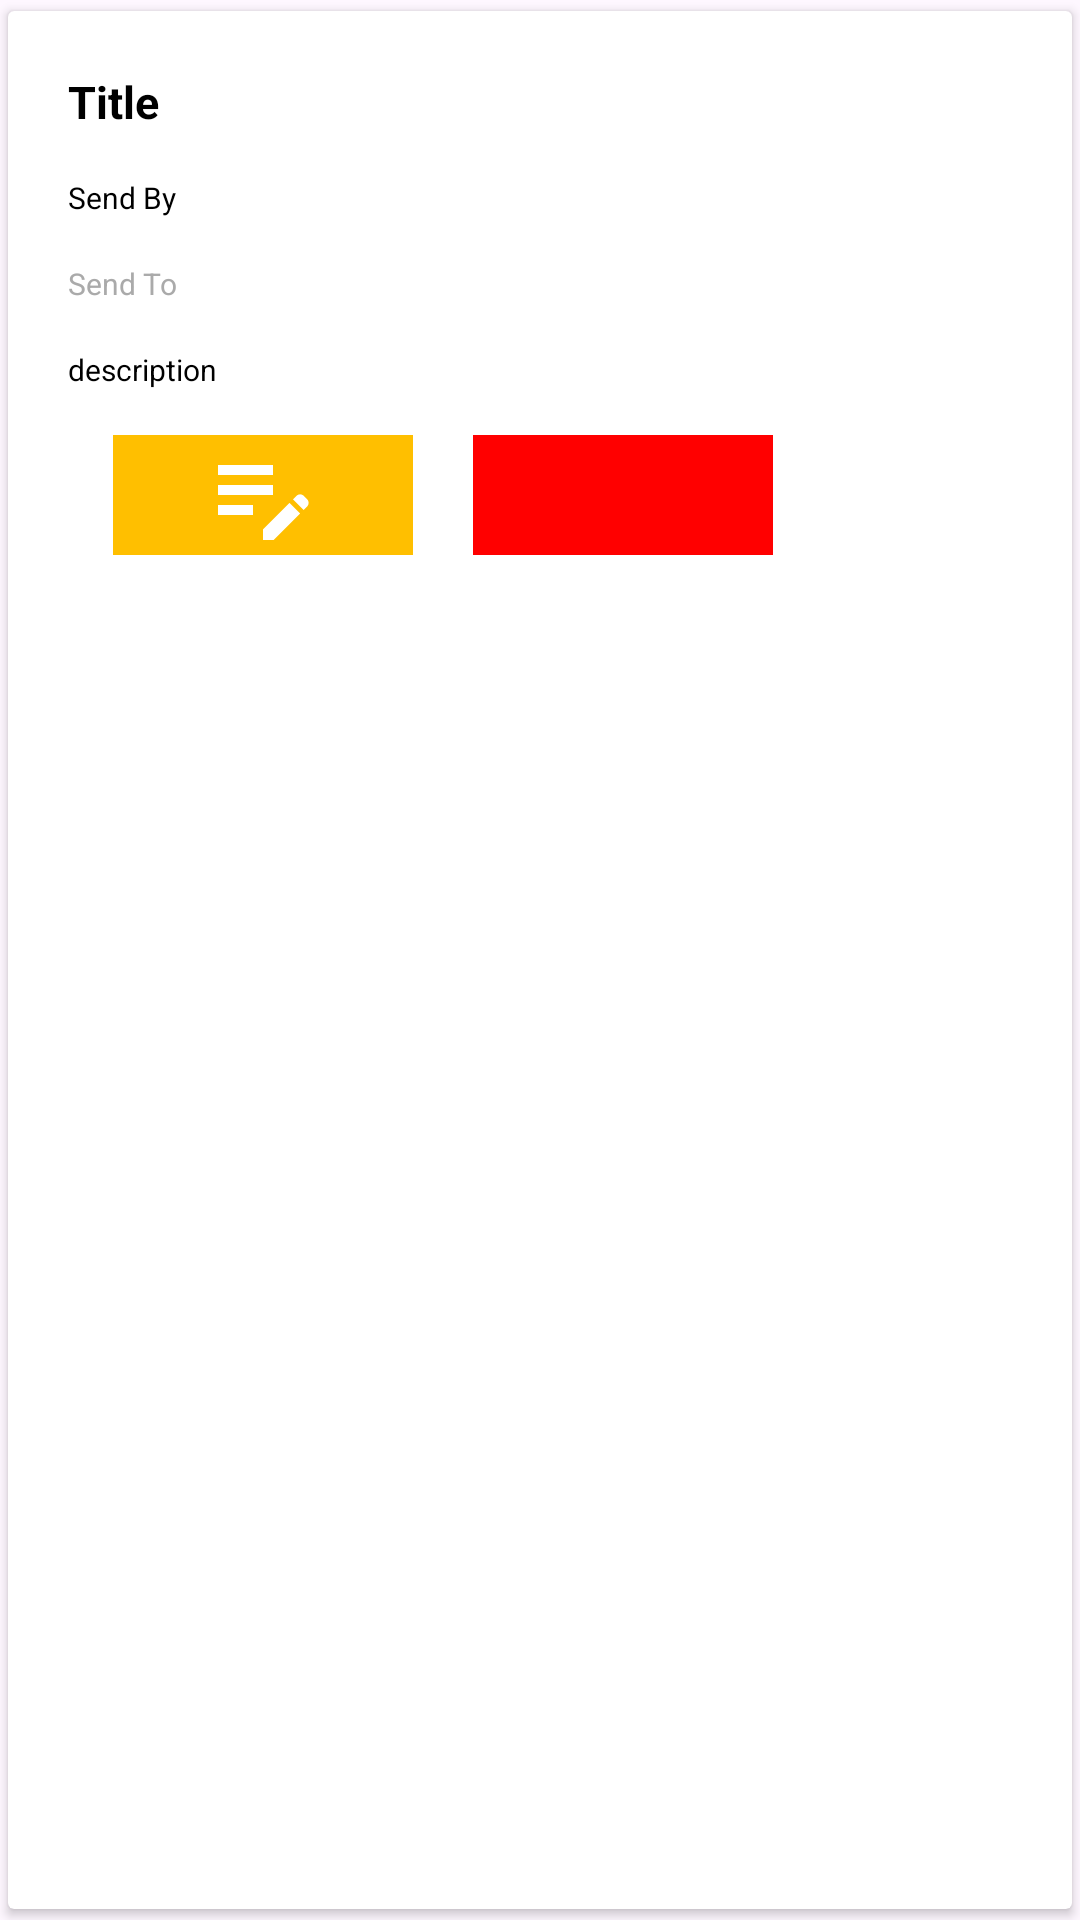

Where icons sit on this 1080x1920 app screen, as (left=x1, top=y1, right=x2, bottom=y2):
edit note: (left=113, top=435, right=413, bottom=555)
